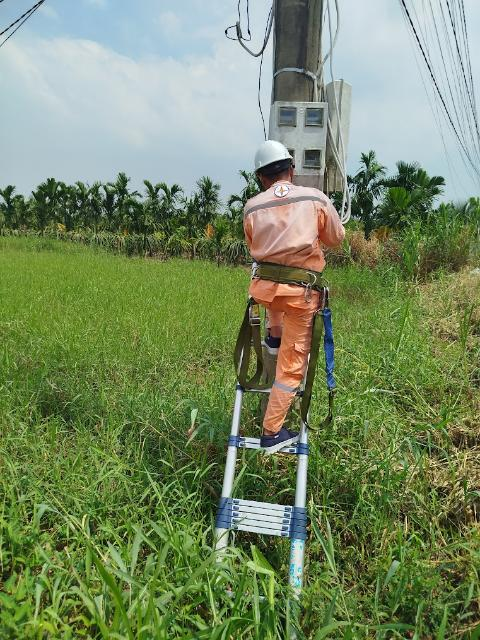harness: (240, 253, 330, 301)
helmet: (244, 131, 308, 176)
shoes: (251, 429, 312, 458), (259, 317, 286, 357)
